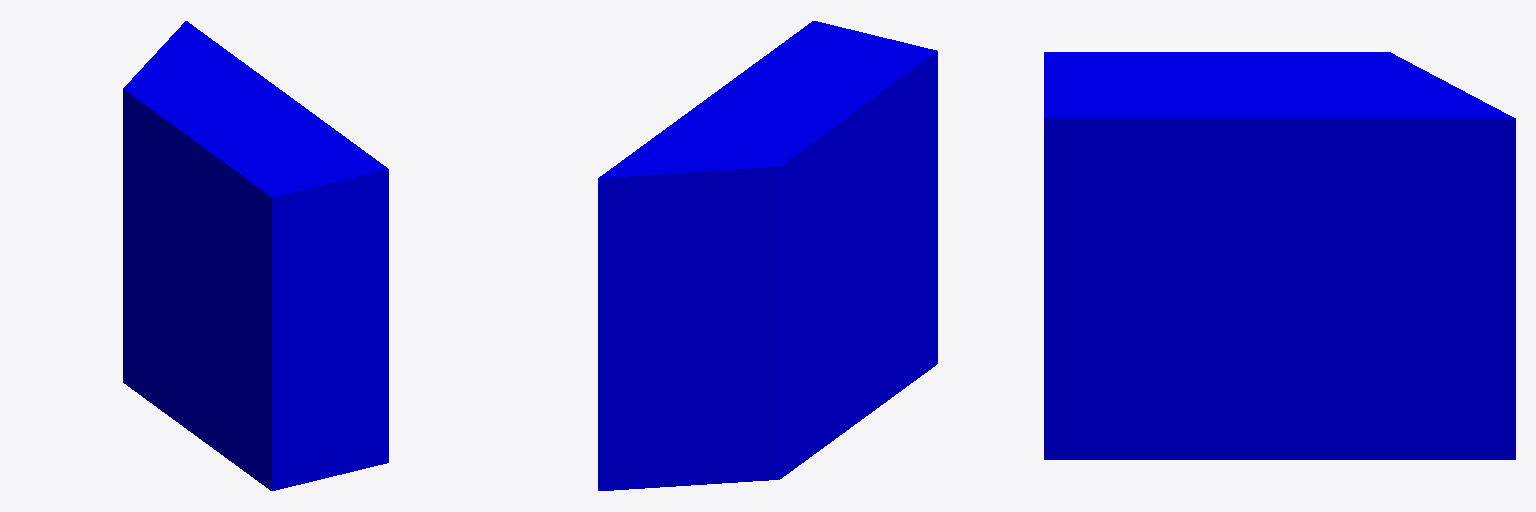
robot.urdf — building:
<?xml version="1.0" ?>

<robot name="building">

  <link name="base_link"> 

    <inertial>
      <origin rpy="0 0 0" xyz="0 0 0"/>
      <mass value="100.0"/>
      <inertia ixx="100" ixy="10.0" ixz="10.0" iyy="100" iyz="10.0" izz="100"/>
    </inertial>

    <visual>
      <origin rpy="0 0 0" xyz="0.25 -0.5 0"/>
      <geometry>
        <mesh filename="./building_left_120.obj" scale="1. 1. 1."/>
      </geometry> 
      <material name="blue">
        <color rgba="0. 0. 1. 0.7"/>
      </material> 
    </visual>

    <collision>
      <origin rpy="0 0 0" xyz="0.25 -0.5 0"/>
      <geometry>
        <mesh filename="./building_left_120.obj" scale="1. 1. 1."/>
      </geometry>
    </collision>  

  </link>

</robot>

--- Facts derived from the render (not from the file) ---
The picture shows the robot from 3 angles, left to right: view 1: azimuth 30°, elevation 25°; view 2: azimuth 150°, elevation 25°; view 3: azimuth 270°, elevation 25°; orthographic projection.
Model building with 1 links and 0 joints (none), rooted at base_link, posed every joint at zero.
Links seen in each view (by area): view 1: base_link; view 2: base_link; view 3: base_link.
Link boxes in pixels (bbox=[...]): base_link: bbox=[123, 21, 388, 490]; base_link: bbox=[598, 21, 937, 490]; base_link: bbox=[1044, 52, 1515, 459].
Bounding box of the posed robot: 0.5 × 1.5 × 1.2 m (x, y, z).
1 mesh visuals loaded from 1 distinct referenced files (1 OBJ).